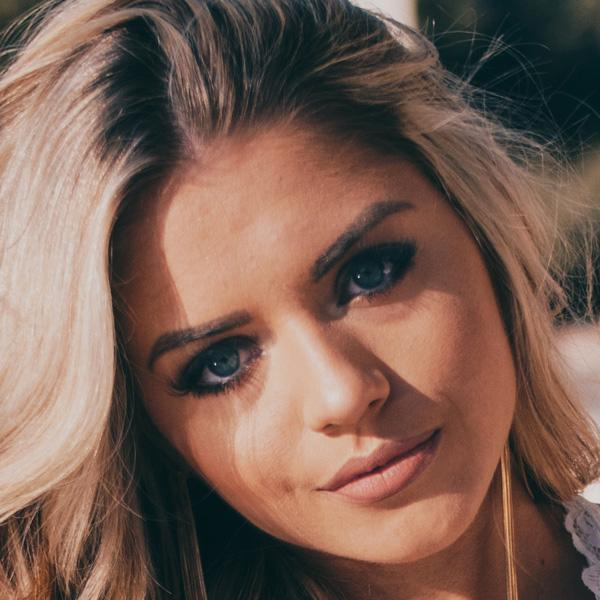Eyes: (320, 233, 424, 312), (172, 327, 268, 404)
